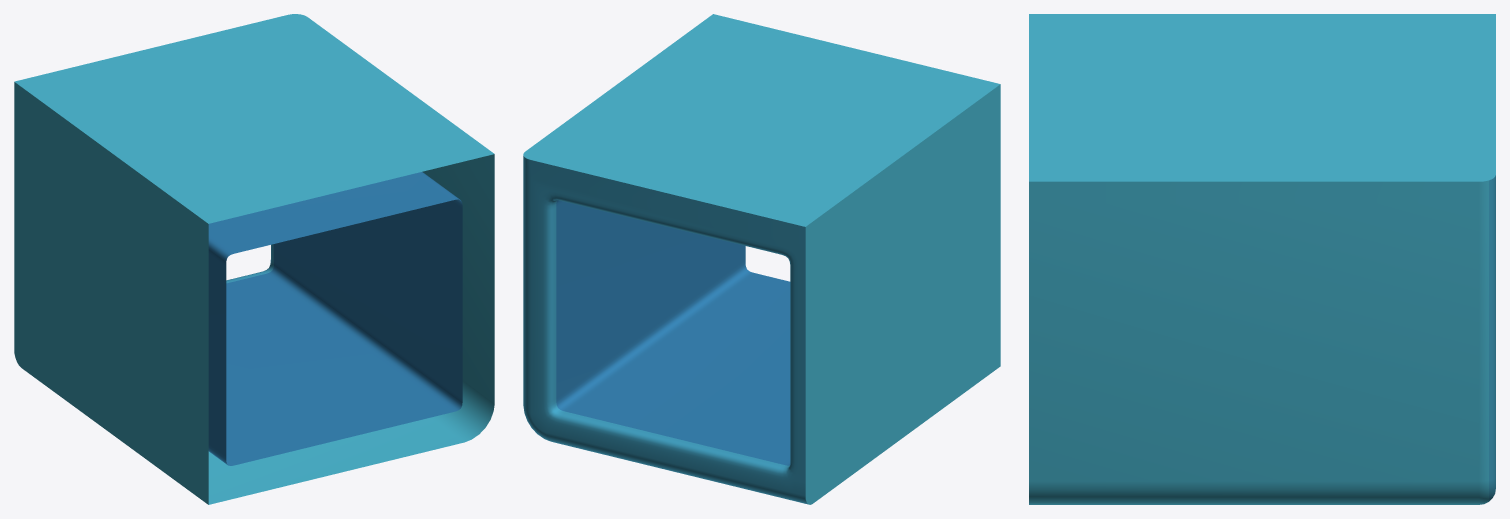
File: Platform-5.fbx
3 views of the same model, side by side, from view 1: azimuth 30°, elevation 25°; view 2: azimuth 150°, elevation 25°; view 3: azimuth 270°, elevation 25° (orthographic). The views are drawn at different scales.
Parts seen in each view (by area): view 1: Platform-5; view 2: Platform-5; view 3: Platform-5.
Boxes of the visible parts, x1,y1,x2,y2 form: Platform-5: (14,14,494,504); Platform-5: (523,14,1000,504); Platform-5: (1029,14,1495,504).
Size of the model in its own units: 422 by 396 by 496.
